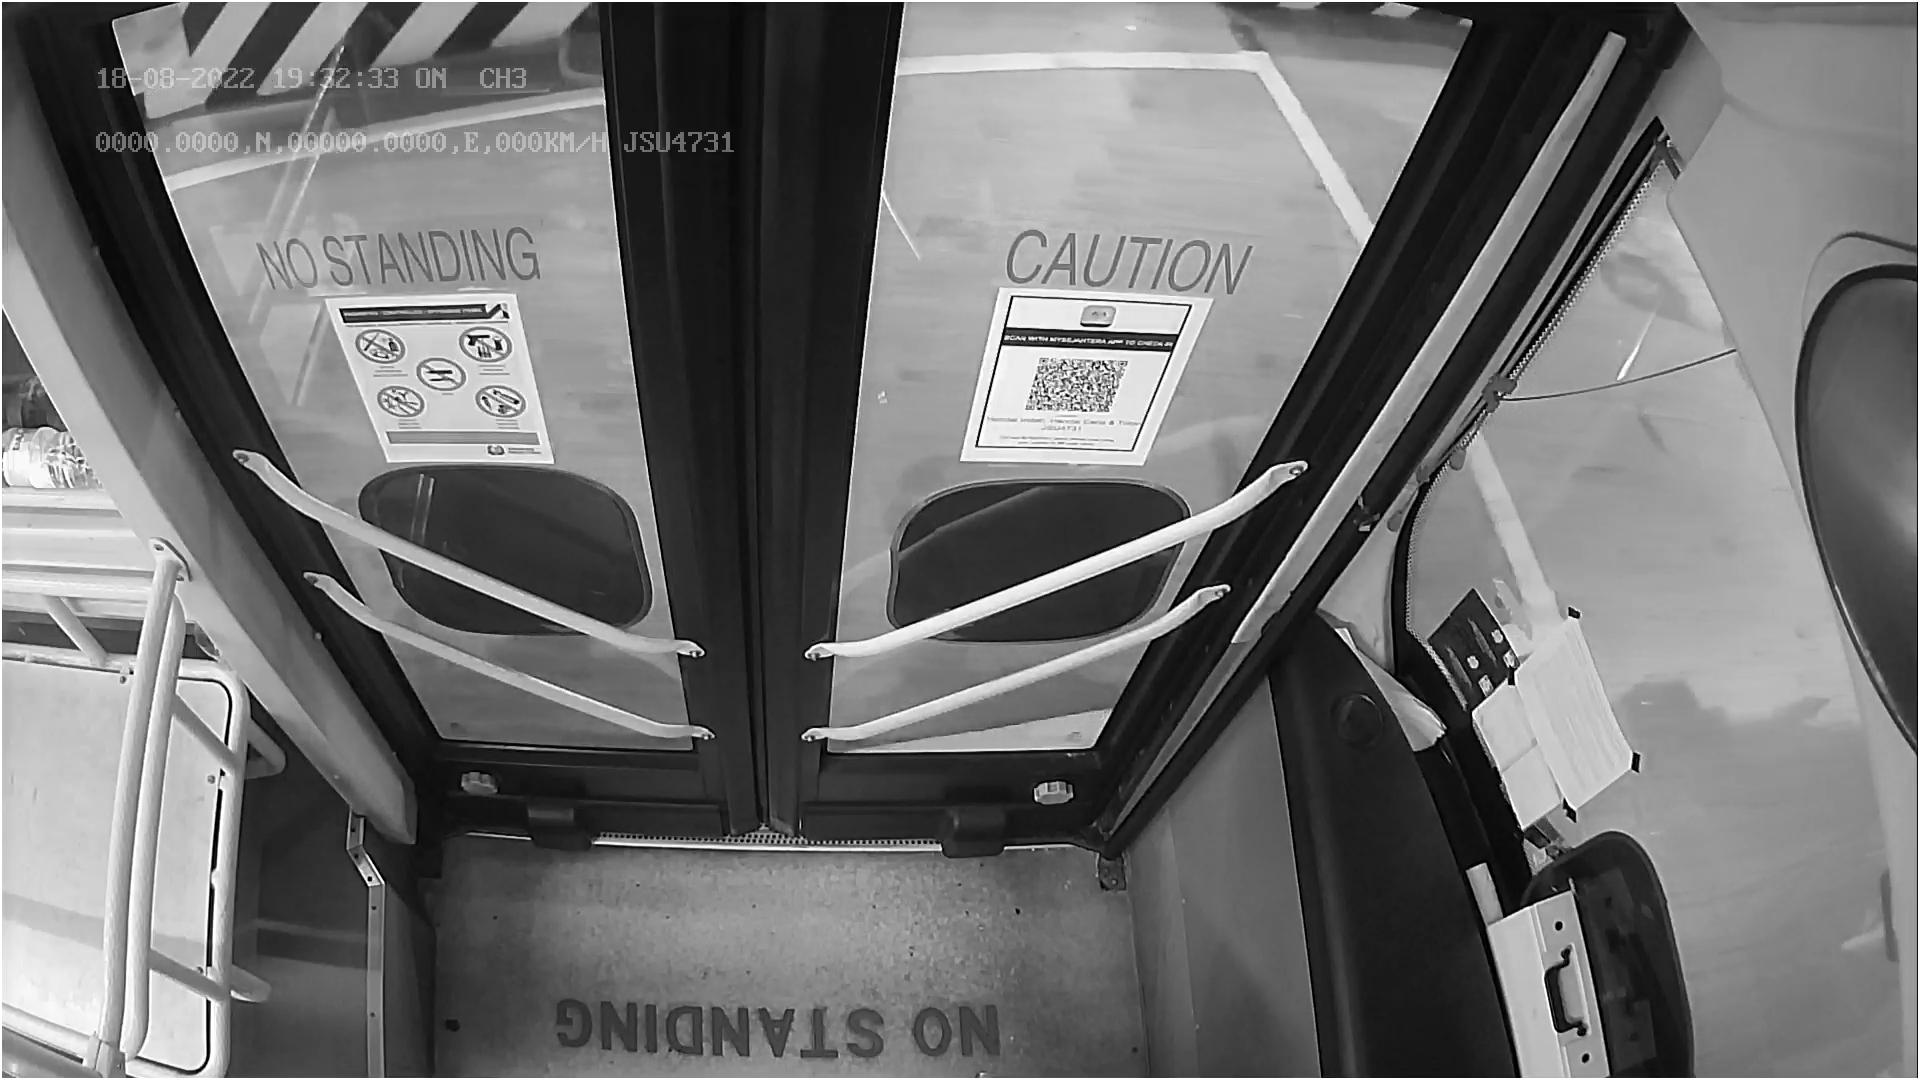close: (128, 0, 1445, 166)
